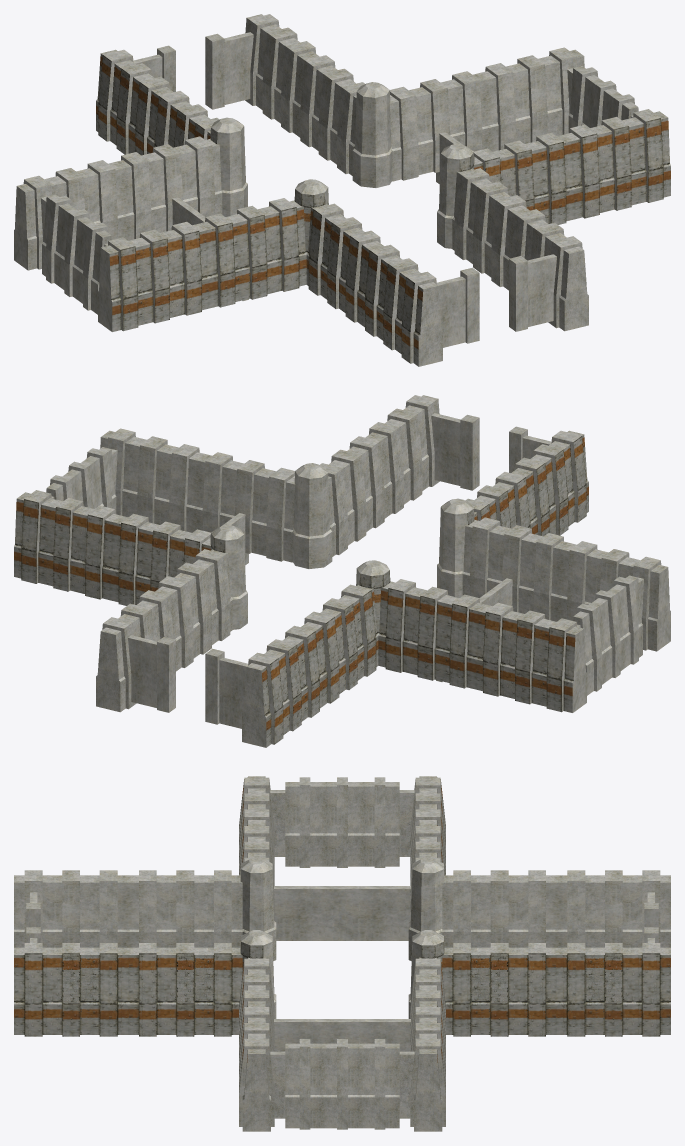
The model's file is poi_all_rebl_corral_64x64_s02_l0.fbx.
The picture shows the model from 3 angles, top to bottom: view 1: azimuth 30°, elevation 25°; view 2: azimuth 150°, elevation 25°; view 3: azimuth 270°, elevation 25°; orthographic projection.
Visible parts, largest first — view 1: mesh_node; view 2: mesh_node; view 3: mesh_node.
Boxes of the visible parts, x1,y1,x2,y2 form: mesh_node: (14, 14, 670, 366); mesh_node: (14, 395, 670, 747); mesh_node: (14, 776, 670, 1131).
Size of the model in its own units: 46 by 8.4 by 46.
